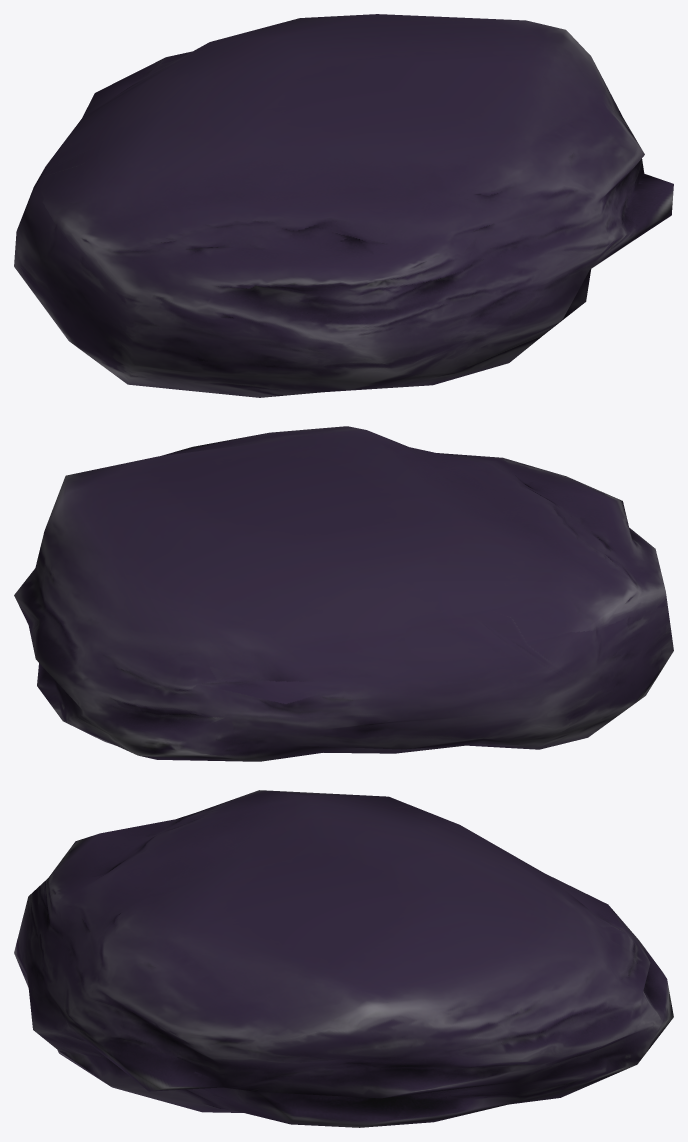
The model's file is TutorialRock4.fbx.
3 views of the same model, one above another, from view 1: azimuth 30°, elevation 25°; view 2: azimuth 150°, elevation 25°; view 3: azimuth 270°, elevation 25° (orthographic). The views are drawn at different scales.
Visible parts, largest first — view 1: low_poly; view 2: low_poly; view 3: low_poly.
Boxes of the visible parts, left/top/right/bottom form: low_poly: left=14, top=14, right=673, bottom=397; low_poly: left=14, top=426, right=673, bottom=761; low_poly: left=14, top=790, right=673, bottom=1127.
Bounding box in the file's own units: 186 × 56.62 × 200.
